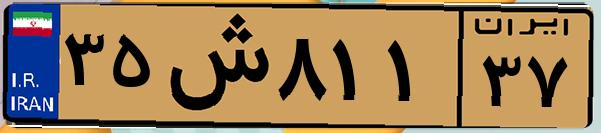1: (385, 28, 445, 110), (330, 28, 385, 110)
3: (57, 26, 110, 100), (475, 38, 525, 113)
5: (110, 28, 158, 98)
7: (525, 38, 570, 115)
8: (270, 28, 330, 110)
ش: (158, 12, 270, 120)
